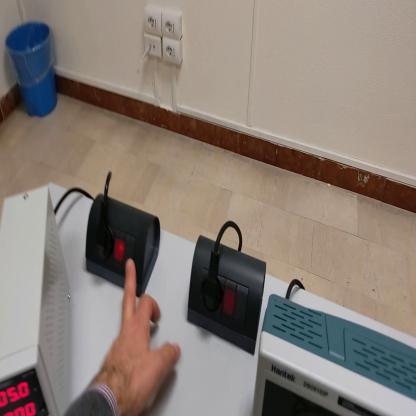hand: (92, 256, 179, 416)
oscilloscope: (255, 294, 416, 415)
power supply: (2, 175, 75, 415)
socket: (190, 235, 269, 354), (88, 199, 162, 301)
